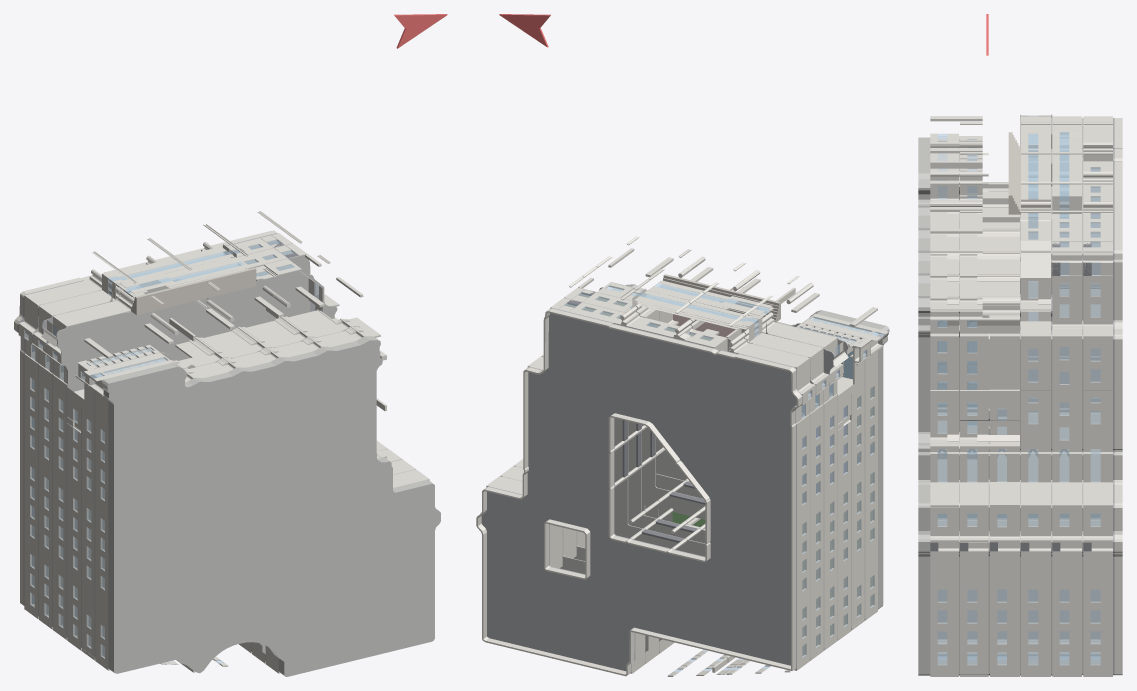
The model's file is PathFinder_Teaching_Block.fbx.
The picture shows the model from 3 angles, left to right: view 1: azimuth 30°, elevation 25°; view 2: azimuth 150°, elevation 25°; view 3: azimuth 270°, elevation 25°; orthographic projection. The views are drawn at different scales.
Visible parts, largest first — view 1: TB_LG03_Foundation, TB_LG02_Walls, TB_LG03_Walls, TB_GF_Walls, TB_1F_Walls, TB_GF_Slab, TB_2F_Walls, TB_1F_Slab, TB_LG01_Walls, TB_NorthEntranceSteps, TB_2F_Parapet, TB_GF_Glazing (+10 smaller); view 2: TB_2F_Roof, TB_2F_Parapet, TB_1F_Walls, TB_2F_Walls, TB_GF_Walls, TB_LG03_Walls, TB_LG02_Walls, TB_2F_Slab, TB_LG01_Walls, TB_1F_Slab, TB_GF_Slab, TB_LG03_Foundation (+11 smaller); view 3: TB_LG02_Walls, TB_GF_Walls, TB_LG03_Walls, TB_2F_Walls, TB_1F_Walls, TB_LG01_Walls, TB_LG03_Foundation, TB_2F_Parapet, TB_1F_Glazing, TB_GF_Glazing, TB_2F_Glazing, TB_LG03_Glazing (+10 smaller).
Boxes of the visible parts, left/top/right/bottom form: TB_LG03_Foundation: left=102, top=336, right=440, bottom=676; TB_LG02_Walls: left=67, top=254, right=415, bottom=666; TB_LG03_Walls: left=77, top=277, right=429, bottom=673; TB_GF_Walls: left=41, top=231, right=387, bottom=639; TB_1F_Walls: left=32, top=221, right=322, bottom=629; TB_GF_Slab: left=56, top=269, right=385, bottom=637; TB_2F_Walls: left=18, top=211, right=292, bottom=618; TB_1F_Slab: left=46, top=254, right=310, bottom=626; TB_LG01_Walls: left=67, top=393, right=402, bottom=653; TB_NorthEntranceSteps: left=131, top=267, right=256, bottom=315; TB_2F_Parapet: left=14, top=230, right=277, bottom=605; TB_GF_Glazing: left=52, top=261, right=322, bottom=627; TB_2F_Roof: left=481, top=308, right=802, bottom=671; TB_2F_Parapet: left=476, top=308, right=801, bottom=676; TB_1F_Walls: left=500, top=266, right=829, bottom=666; TB_2F_Walls: left=480, top=276, right=815, bottom=676; TB_GF_Walls: left=514, top=256, right=848, bottom=656; TB_LG03_Walls: left=610, top=248, right=888, bottom=620; TB_LG02_Walls: left=608, top=236, right=870, bottom=630; TB_2F_Slab: left=502, top=298, right=816, bottom=661; TB_LG01_Walls: left=656, top=394, right=851, bottom=643; TB_1F_Slab: left=515, top=288, right=829, bottom=651; TB_GF_Slab: left=599, top=282, right=848, bottom=637; TB_LG03_Foundation: left=626, top=284, right=889, bottom=609; TB_LG02_Walls: left=960, top=116, right=1019, bottom=676; TB_GF_Walls: left=1021, top=115, right=1050, bottom=676; TB_LG03_Walls: left=930, top=116, right=982, bottom=676; TB_2F_Walls: left=1083, top=116, right=1112, bottom=676; TB_1F_Walls: left=1052, top=116, right=1081, bottom=676; TB_LG01_Walls: left=990, top=190, right=1037, bottom=676; TB_LG03_Foundation: left=918, top=137, right=928, bottom=675; TB_2F_Parapet: left=1114, top=118, right=1122, bottom=675; TB_1F_Glazing: left=1059, top=132, right=1069, bottom=665; TB_GF_Glazing: left=1028, top=115, right=1038, bottom=665; TB_2F_Glazing: left=1090, top=167, right=1100, bottom=664; TB_LG03_Glazing: left=937, top=133, right=947, bottom=664.
Bounding box in the file's own units: 57.98 × 88.87 × 25.01.
